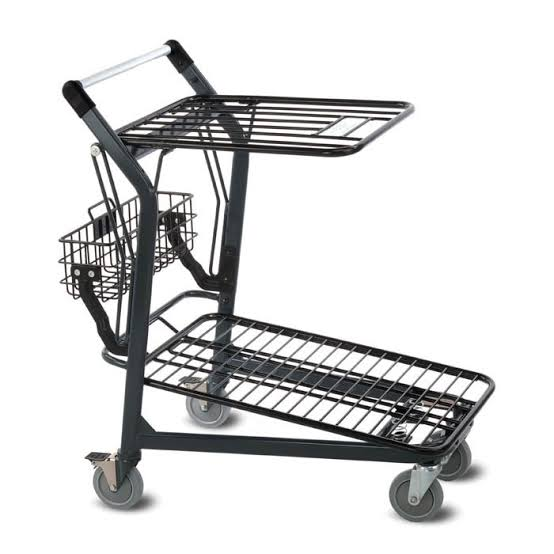Carts: (57, 39, 495, 524)
